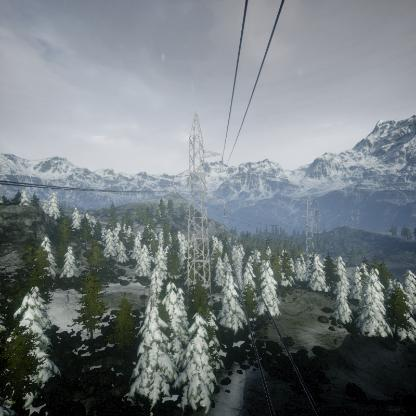tower: (169, 110, 225, 299)
